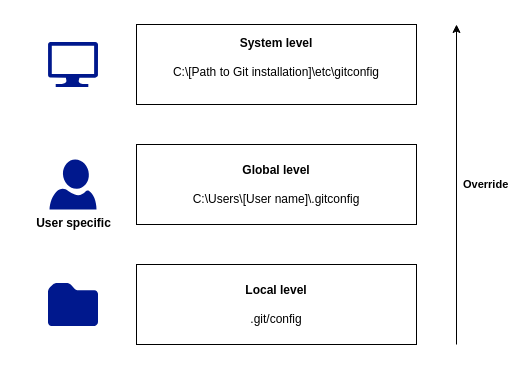
Image size: 525x370. Some labels were removed from this diagram. Here are the shapes that lost their labels. From the top down, the centre of each, then its label:
At (73,64): "Operating system".
At (73,304): "Repository specific".
